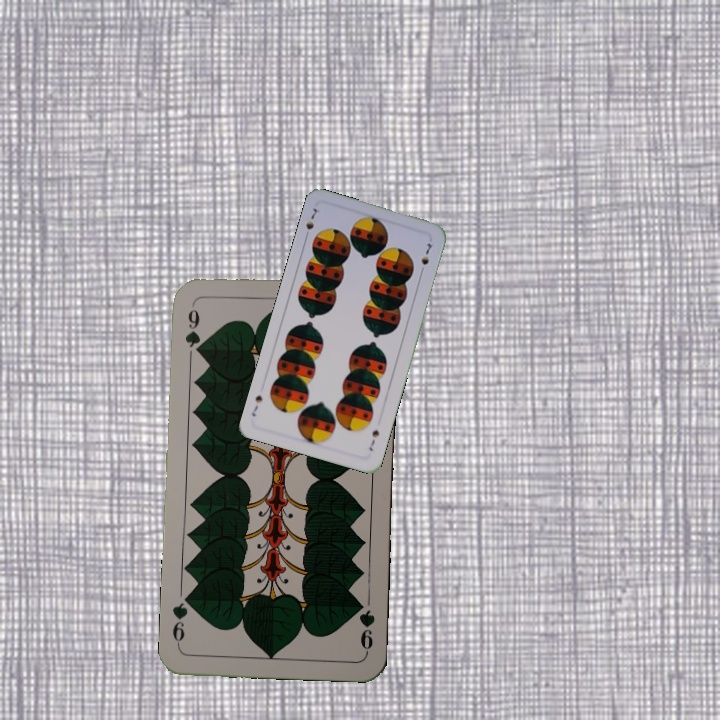G9: (353, 596, 378, 656), (181, 305, 203, 358)
S7: (300, 204, 320, 242), (365, 426, 382, 454)
